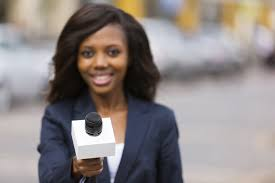no-mask: (69, 12, 133, 100)
